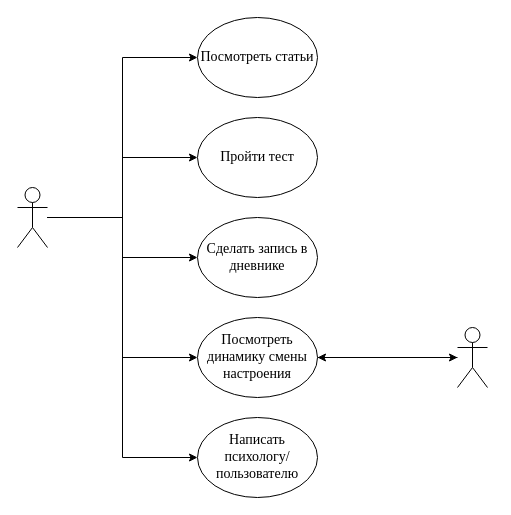
Image size: 511x515. Some labels were removed from this diagram. The box of each missing label's shape, as (x1, y1, x2, y2) in pixels:
Another user: (456, 326, 488, 388)
User: (16, 186, 48, 248)
